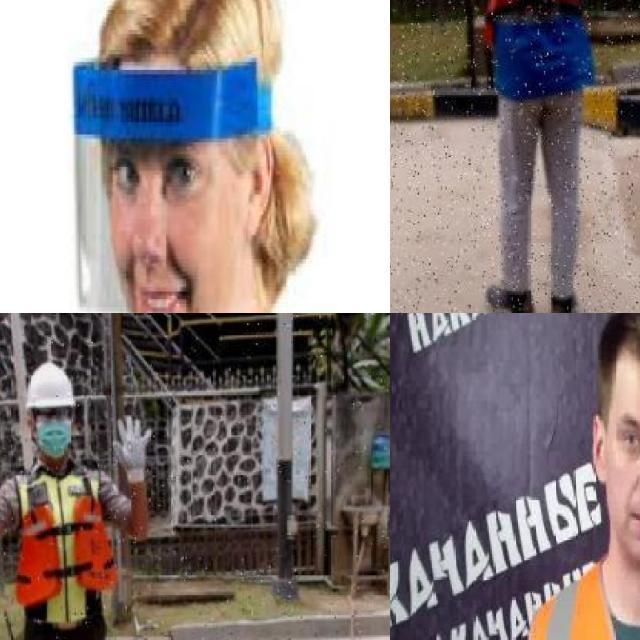apron: (111, 414, 154, 488)
